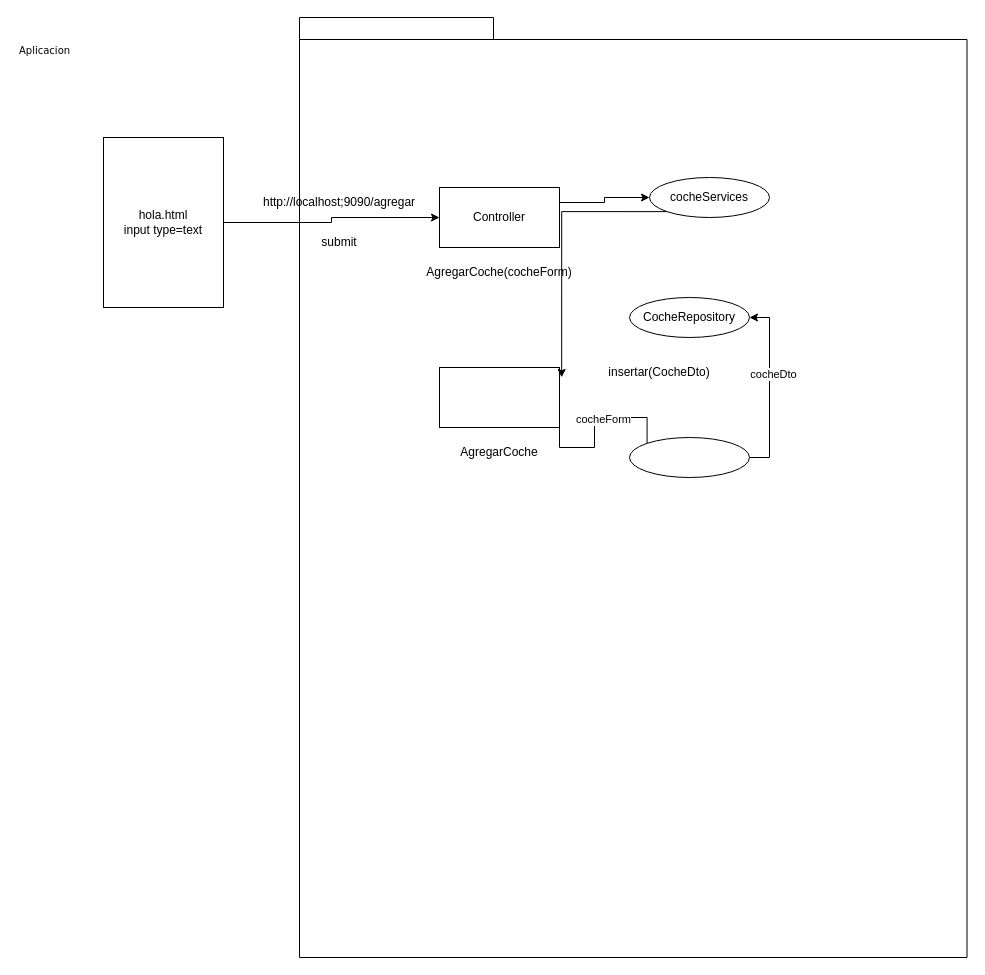
This 985x975 diagram has some shape labels left out. Each missing label, with the centre of its shape:
CocheService: (499,397)
ModelMapper: (689,457)
